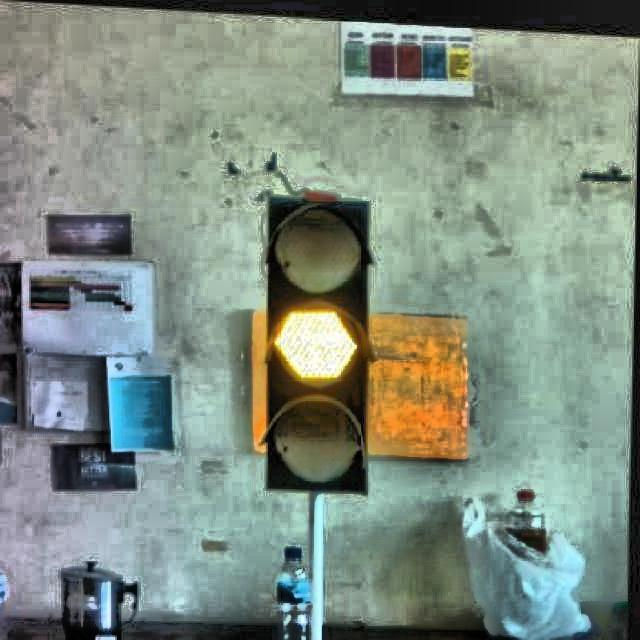yellow: (262, 194, 370, 496)
